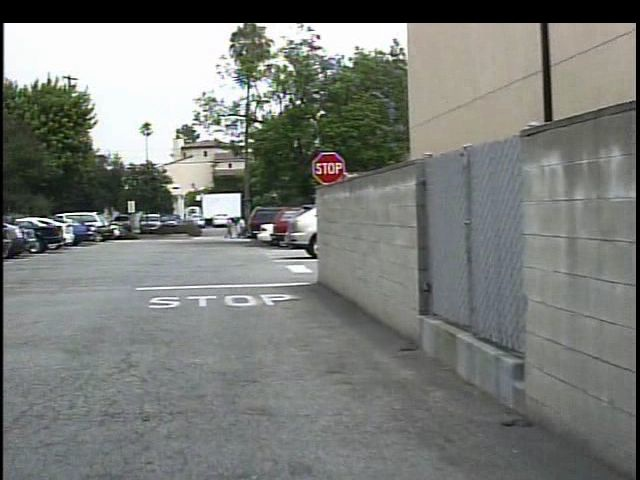person: (215, 215, 230, 242), (227, 216, 241, 241)
